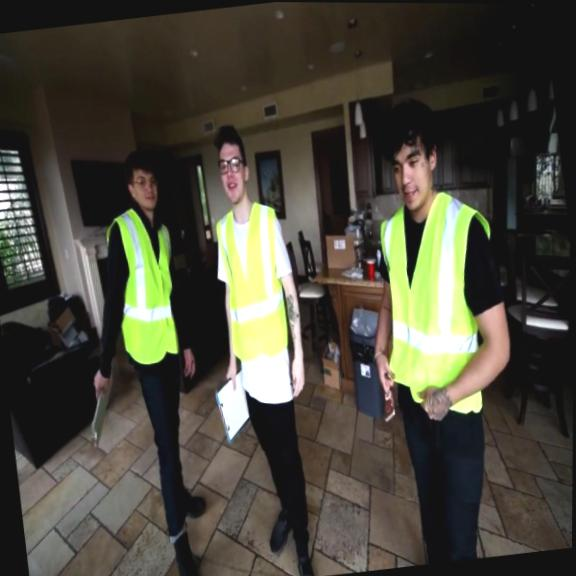safety_vest: (367, 186, 515, 422), (101, 202, 187, 367), (212, 195, 294, 363)
